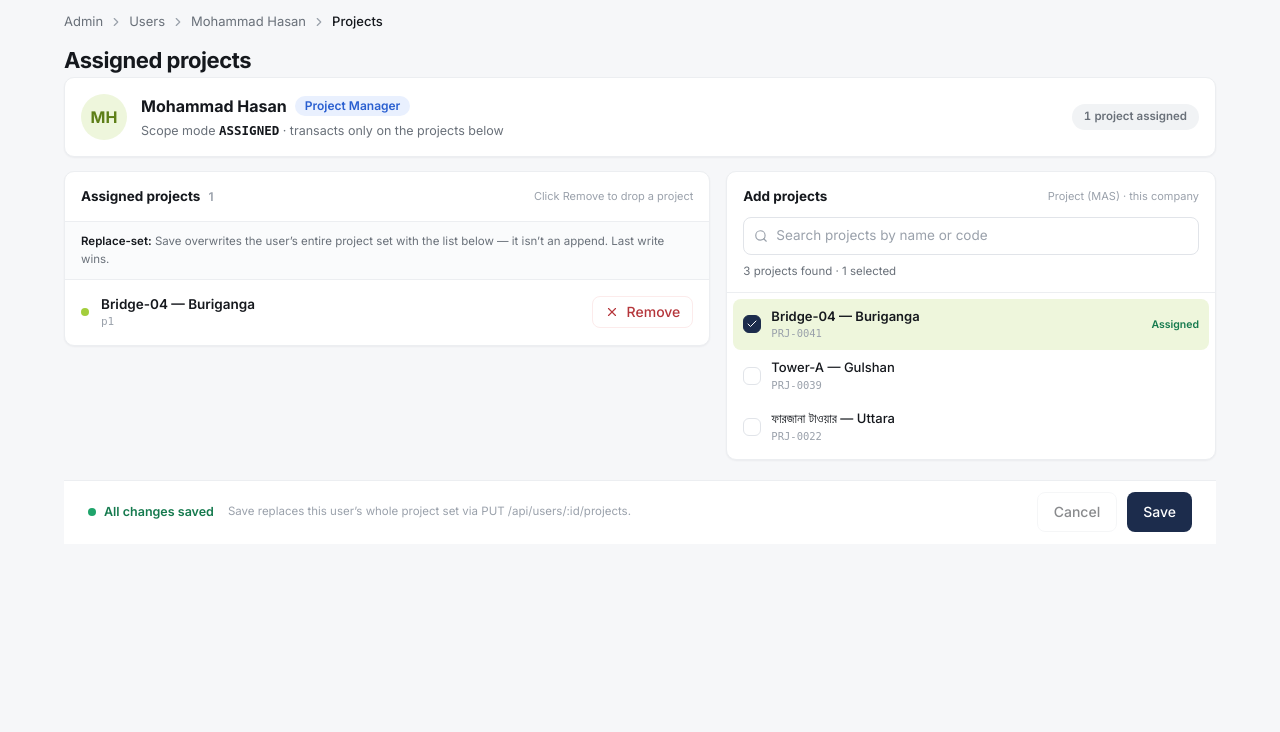
Test case: ProjectAssignmentScreen — batched replace-set save (FR-AUD-014/015) › adding a project and saving commits ONE PUT with the full replaced set
Check: the element with test id "assigned-projects-list" is shown, box [64, 171, 710, 346]
Click the option with test id "picker-option-p2".
click(819, 375)  # box [743, 359, 895, 390]
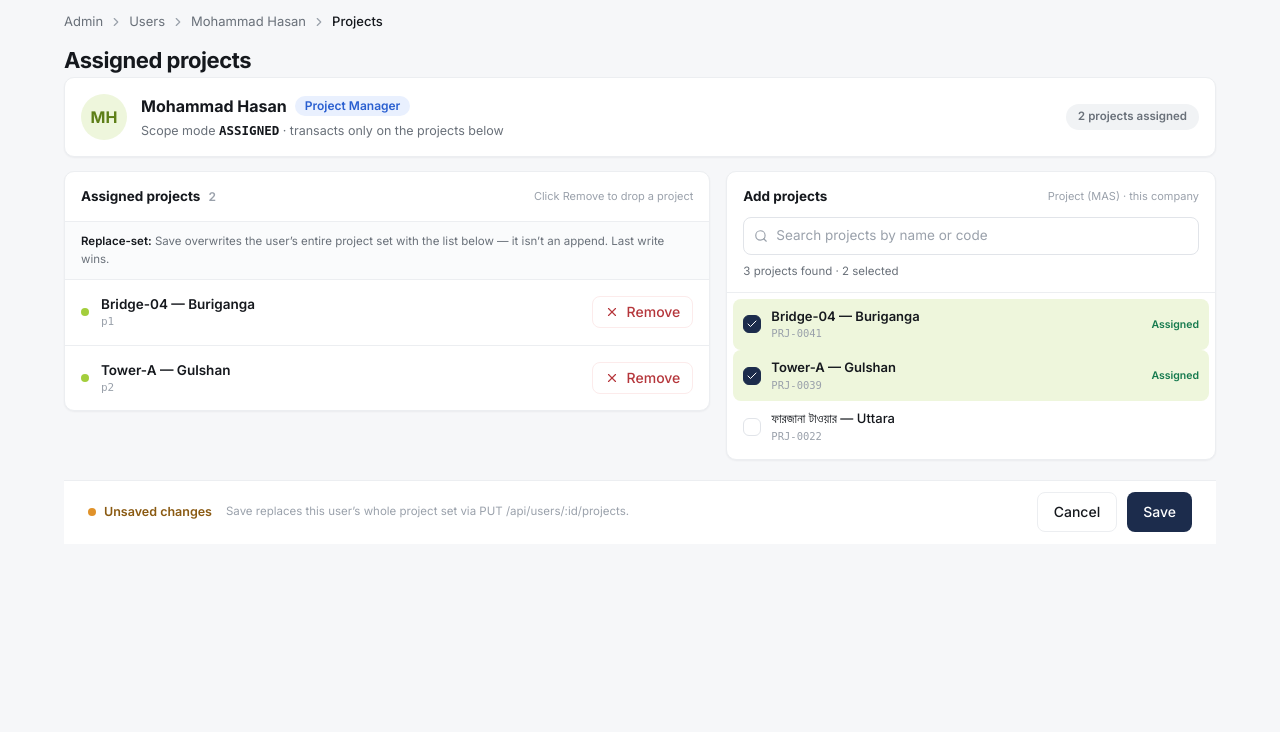
Click the button with test id "save-changes".
click(1160, 512)  # box [1127, 492, 1192, 532]
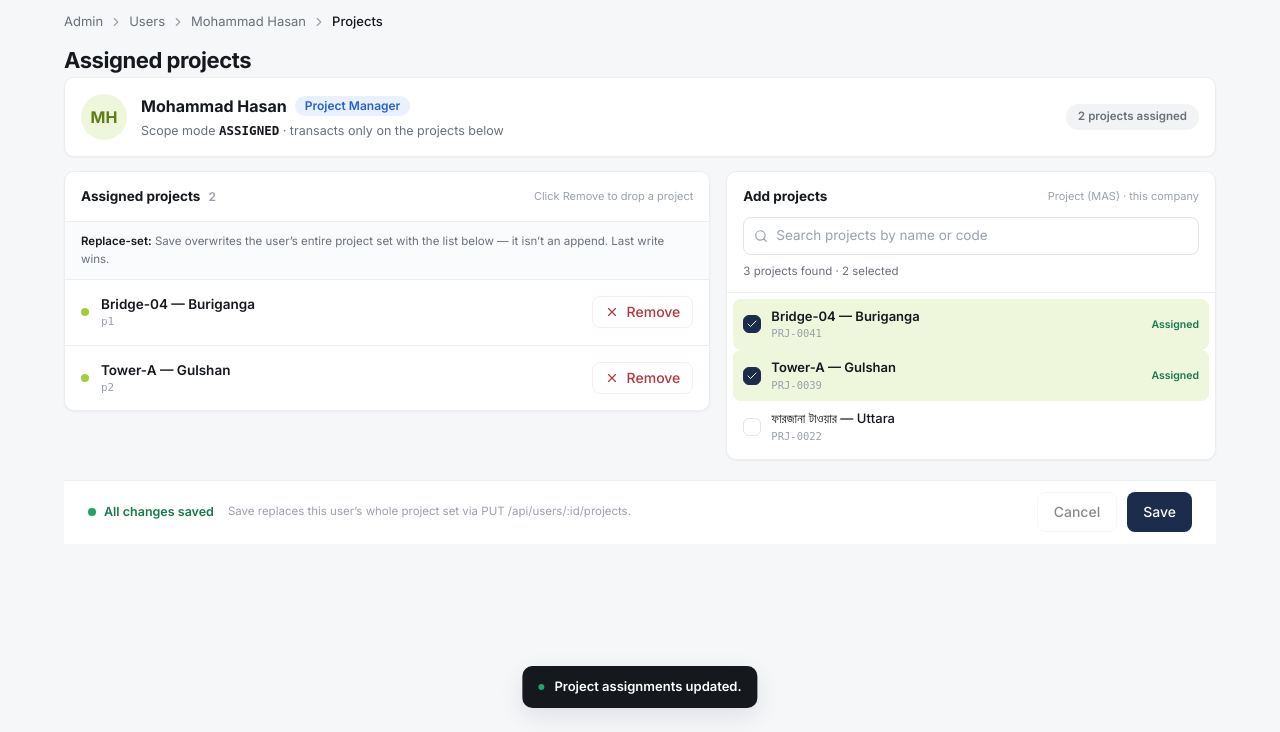
Check: the text "Project assignments updated." is shown, box [554, 677, 742, 697]
